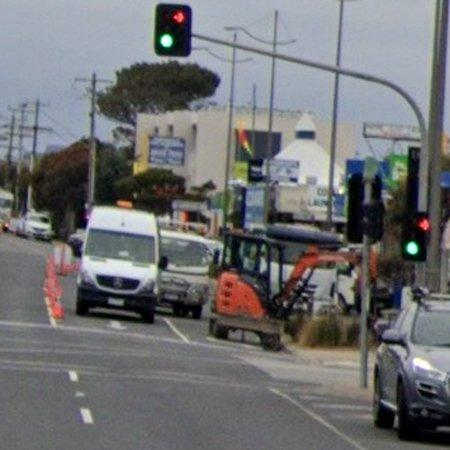traffic lights: (155, 4, 192, 56)
